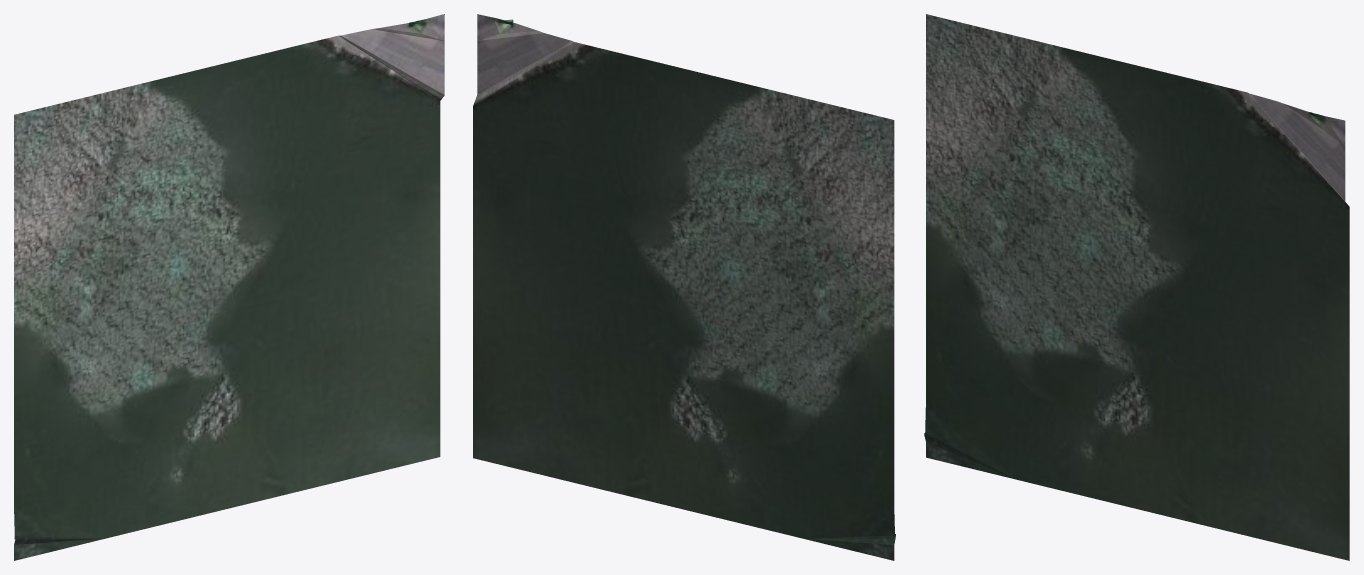
Rendered from Tile_+037_+019_L17_0001.glb.
3 renders of one model, left to right at view 1: azimuth 30°, elevation 25°; view 2: azimuth 150°, elevation 25°; view 3: azimuth 330°, elevation 25°, orthographic.
Size of the model in its own units: 126 by 126 by 3.89.
1 material, 1 textured.
